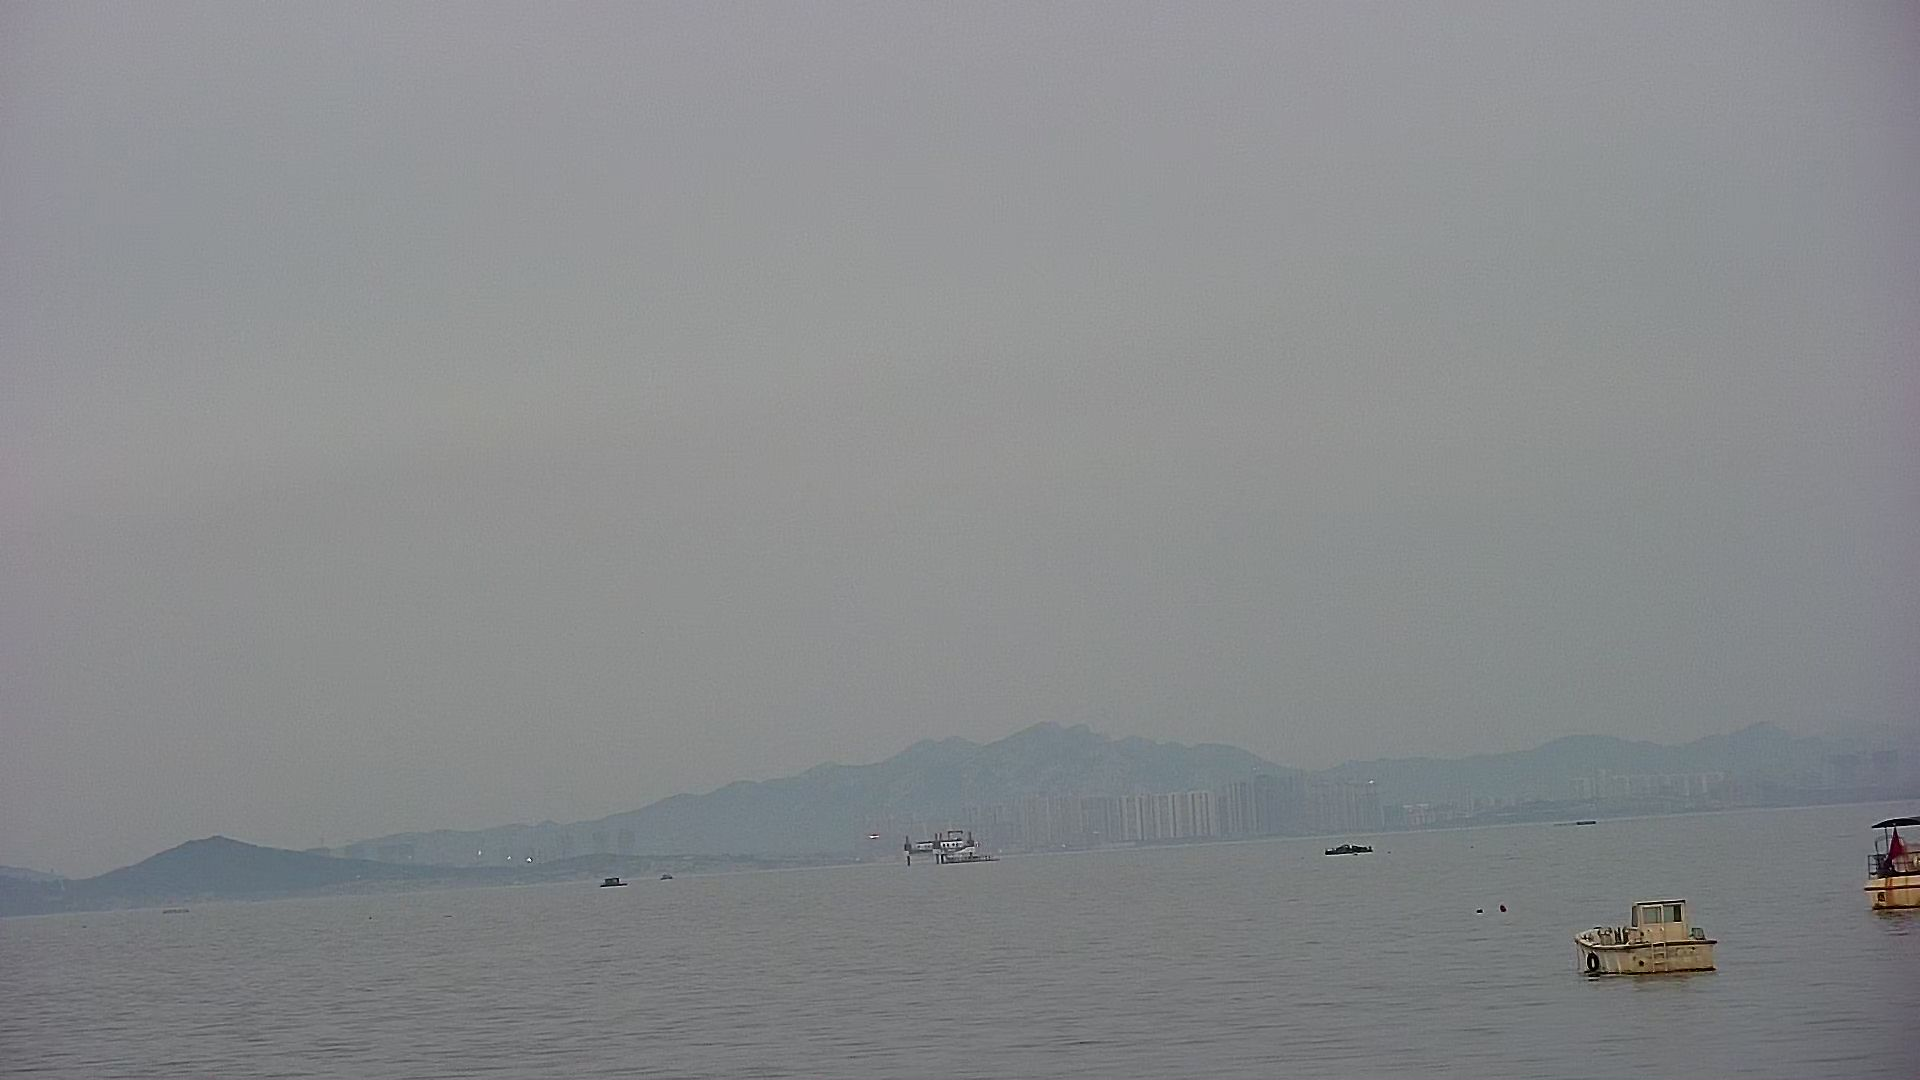boat: (1561, 895, 1737, 990)
